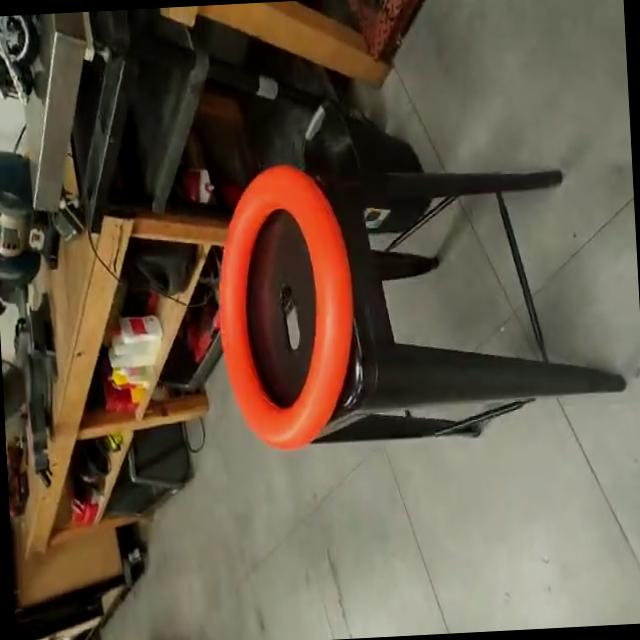note: (204, 160, 368, 466)
